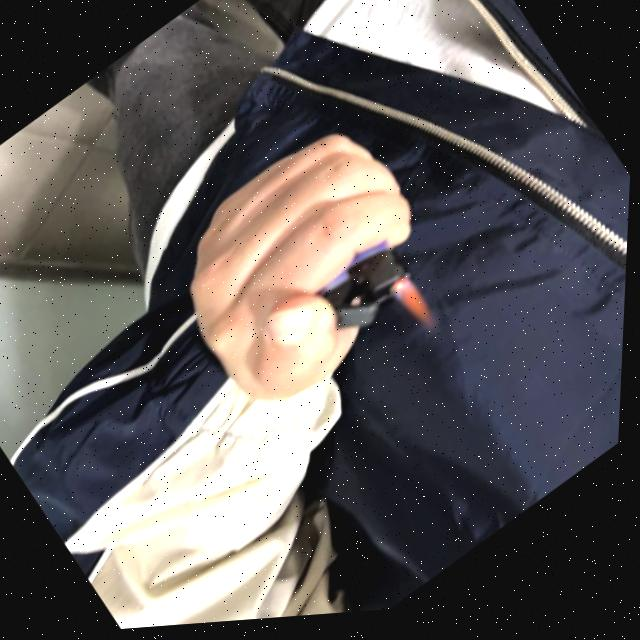Fire: (386, 274, 450, 350)
